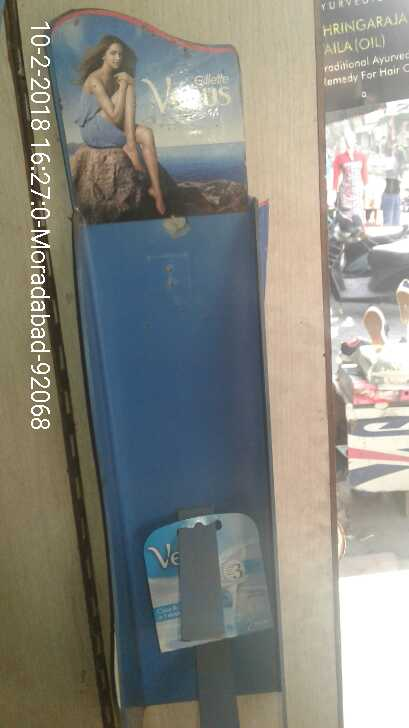venus: (138, 506, 278, 651)
